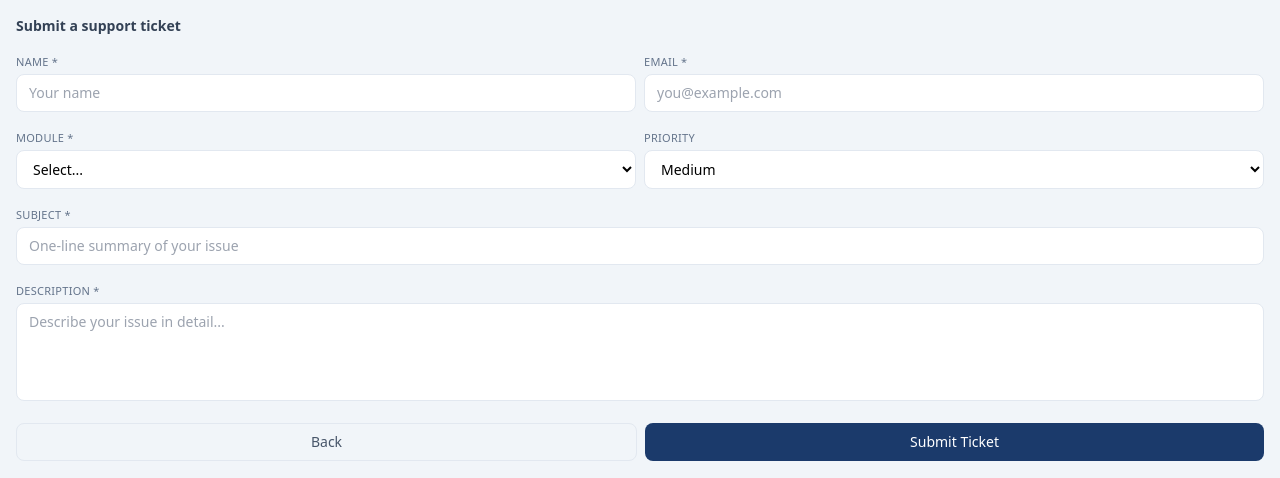
Scenario: TicketForm › submits the ticket and shows a confirmation
Type "Jane Doe" into the field with placeholder "Your name" at (326, 93), box left=16, top=74, right=636, bottom=112
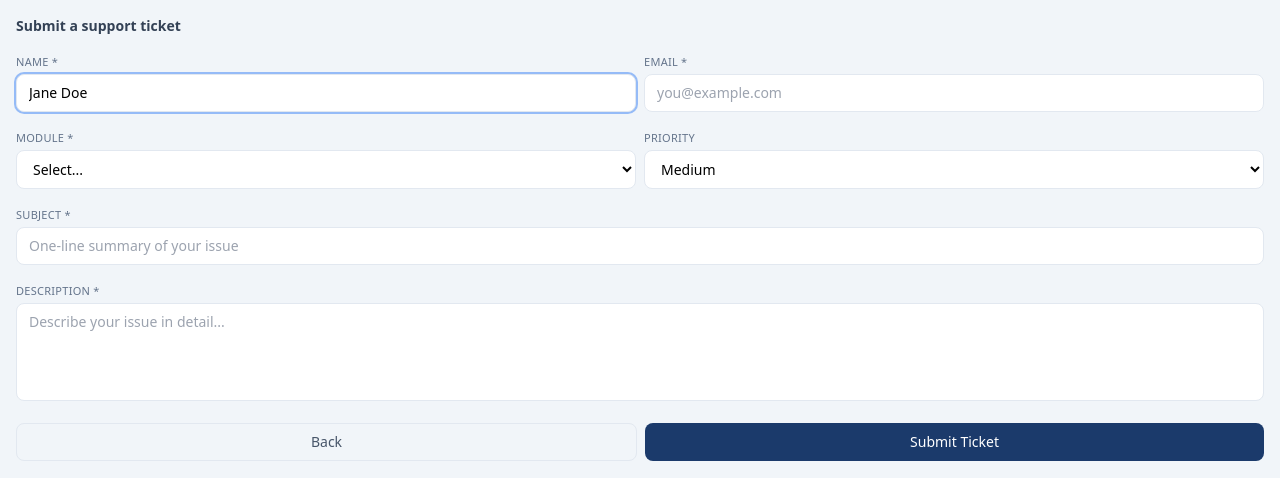
Type "jane@example.com" into the field with placeholder "you@example.com" at (954, 93), box left=644, top=74, right=1264, bottom=112
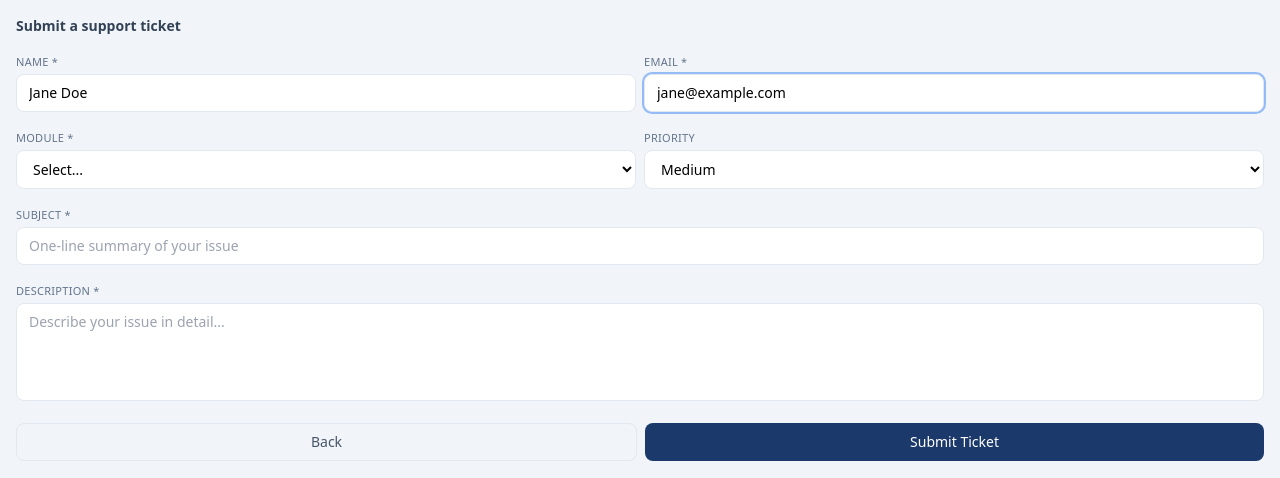
Select "General" in the dropdown showing "Select..." below "Module *" at (326, 170), box left=16, top=150, right=636, bottom=189
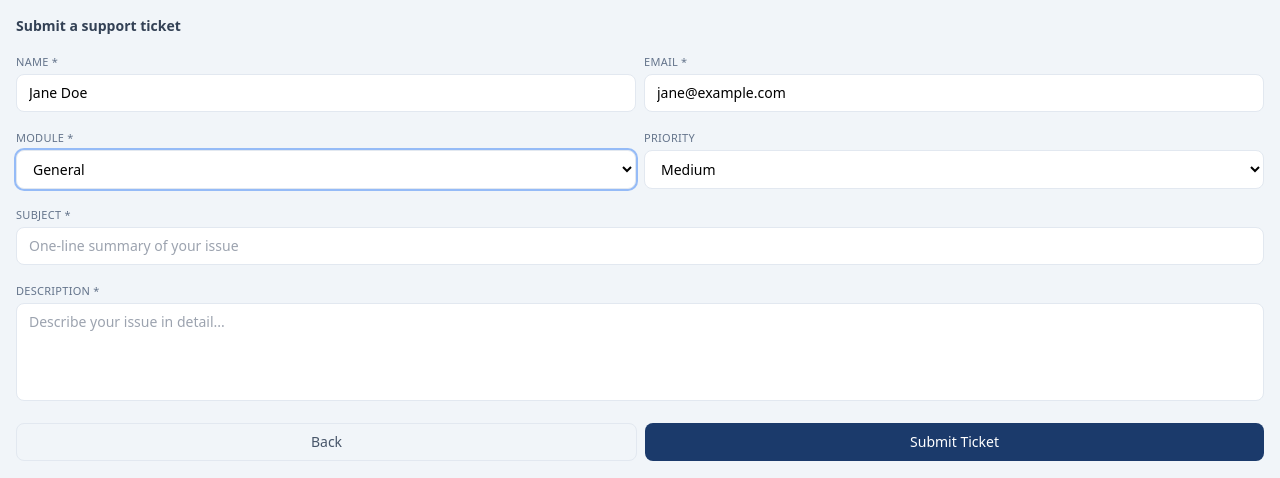
Type "Cannot export report" into the field with placeholder "One-line summary of your issue" at (640, 246), box left=16, top=227, right=1264, bottom=265
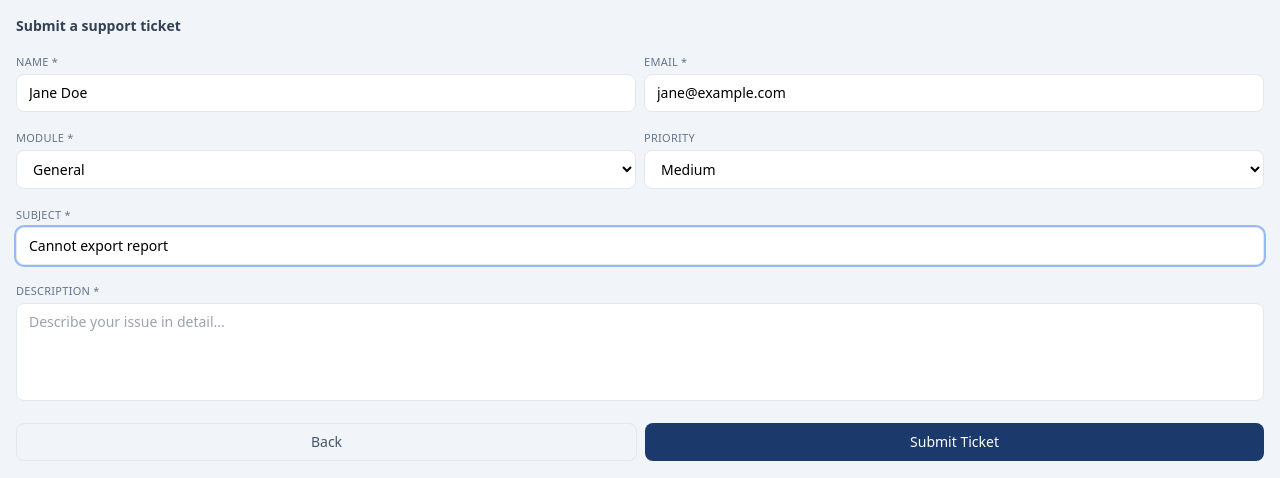
Type "The button is greyed out." into the text box with placeholder "Describe your issue in detail..." at (640, 352), box left=16, top=303, right=1264, bottom=401
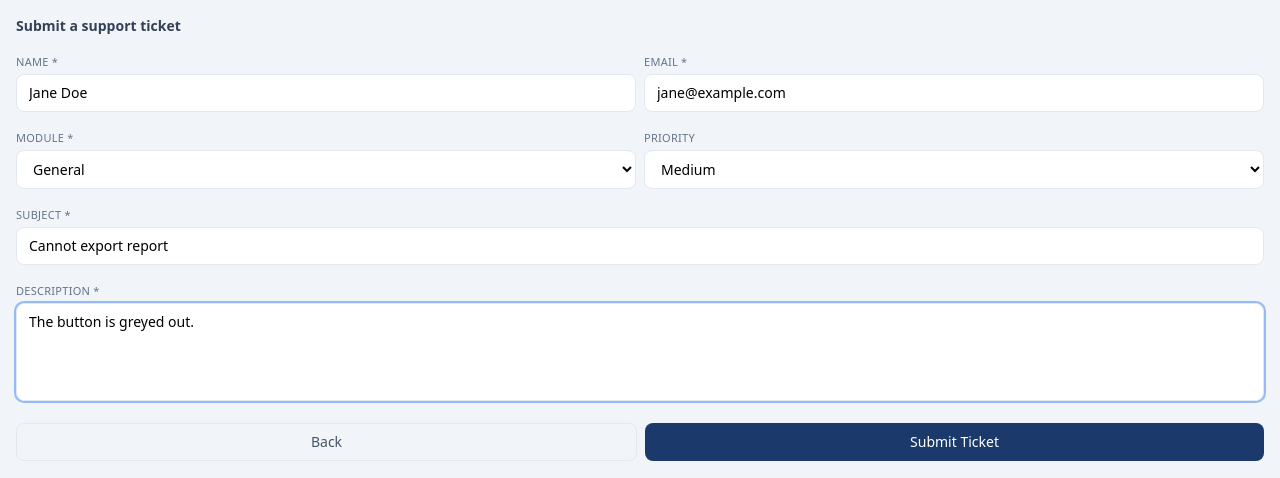
Click the button "Submit Ticket" at (954, 442), box left=645, top=423, right=1264, bottom=461
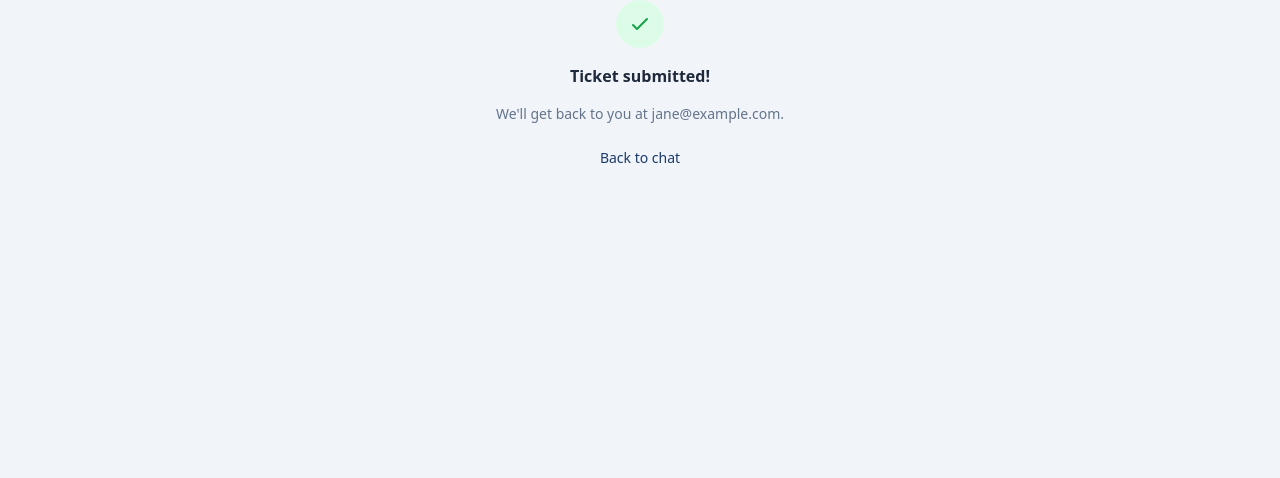
expect the text "Ticket submitted!" is shown: met, box left=570, top=64, right=710, bottom=88
